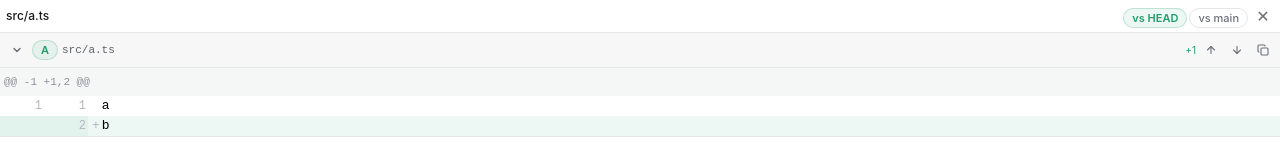
WorktreeDiffOverlay › toggle pill flips the diff source vs-head <-> vs-base
Expected: the text "@@ -1 +1,2 @@" is shown, top-left (0, 68), bottom-right (1279, 96)
Click the button with test id "worktree-diff-source-vs-base".
click(1219, 16)  # box top-left (1189, 4), bottom-right (1248, 28)
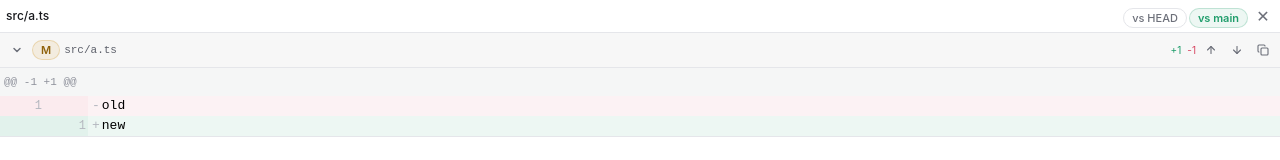
Result: the text "@@ -1 +1 @@" is shown at top-left (0, 68), bottom-right (1279, 96)
